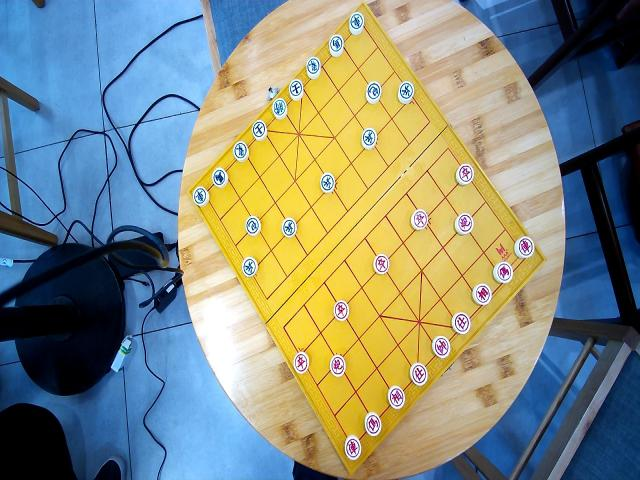piece: (454, 211, 474, 235), (514, 236, 534, 260), (493, 260, 513, 284), (409, 361, 428, 386), (471, 282, 491, 305), (344, 433, 361, 460), (432, 335, 451, 359), (451, 311, 470, 335), (387, 384, 405, 409), (410, 207, 429, 230), (364, 410, 381, 435), (455, 162, 474, 184), (398, 80, 414, 104), (365, 79, 381, 103), (329, 353, 345, 377), (328, 33, 344, 56), (288, 78, 304, 100), (361, 126, 377, 148), (373, 252, 389, 274), (348, 11, 364, 33), (292, 351, 308, 373), (332, 300, 348, 322), (281, 217, 297, 238), (241, 256, 257, 277), (251, 119, 267, 140), (212, 166, 228, 187), (244, 215, 260, 236), (272, 97, 288, 118), (192, 186, 208, 207), (320, 171, 335, 193), (233, 139, 248, 160), (306, 56, 320, 78)
